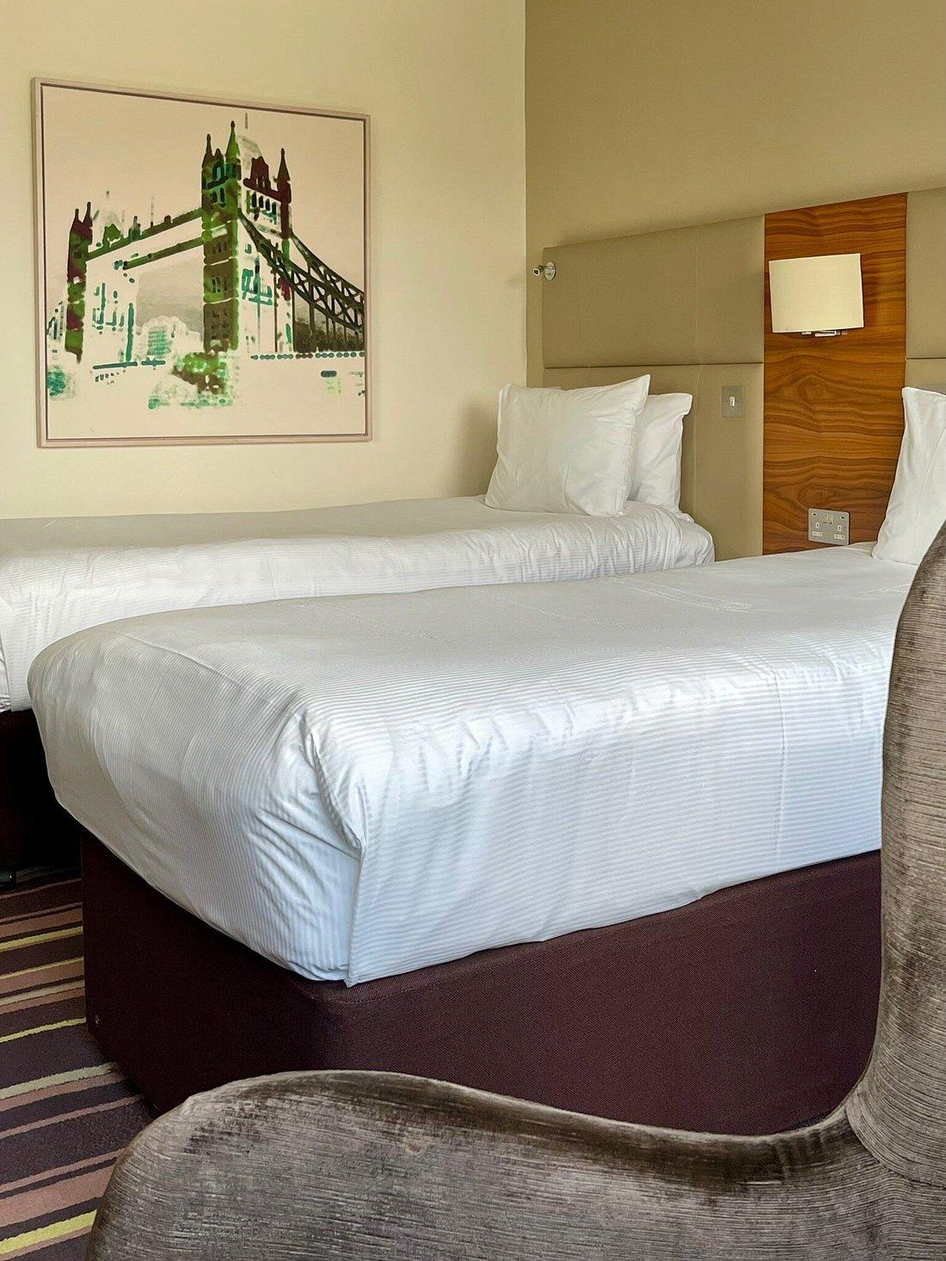clean_bed: (37, 552, 884, 954), (0, 363, 755, 720)
organised_pillow: (497, 383, 699, 522)
